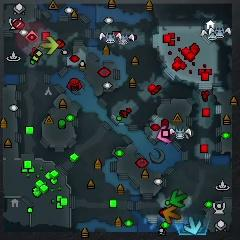x1: (158, 127, 174, 144)
x2: (41, 36, 58, 55)
x3: (184, 217, 202, 234)
x4: (170, 190, 188, 208)
x5: (163, 206, 181, 223)
